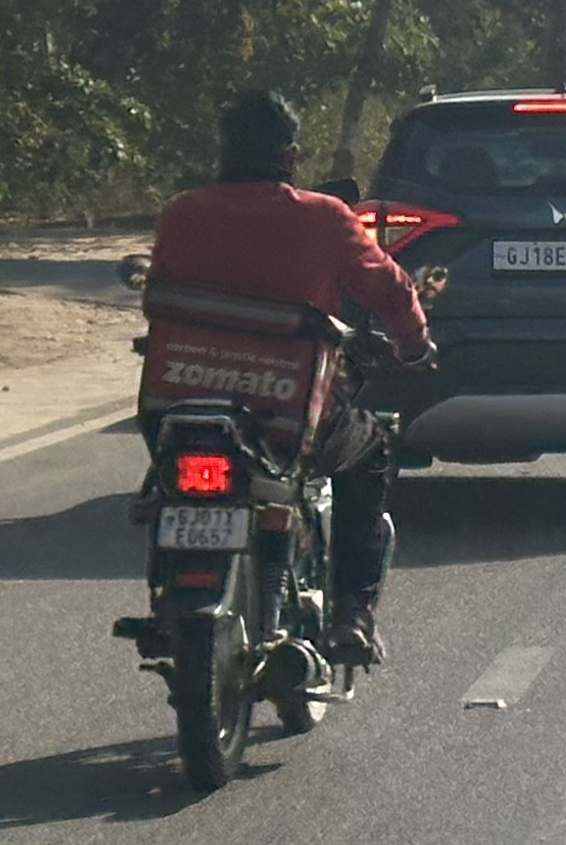BikeWithRider: (110, 82, 457, 794)
NoHelmet: (203, 84, 309, 193)
